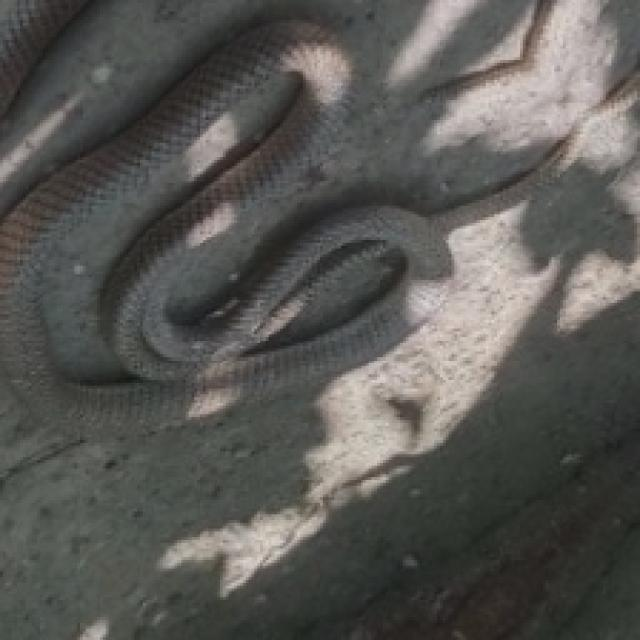paradise tree snake: (0, 22, 640, 433), (424, 0, 560, 110), (0, 0, 85, 109)
